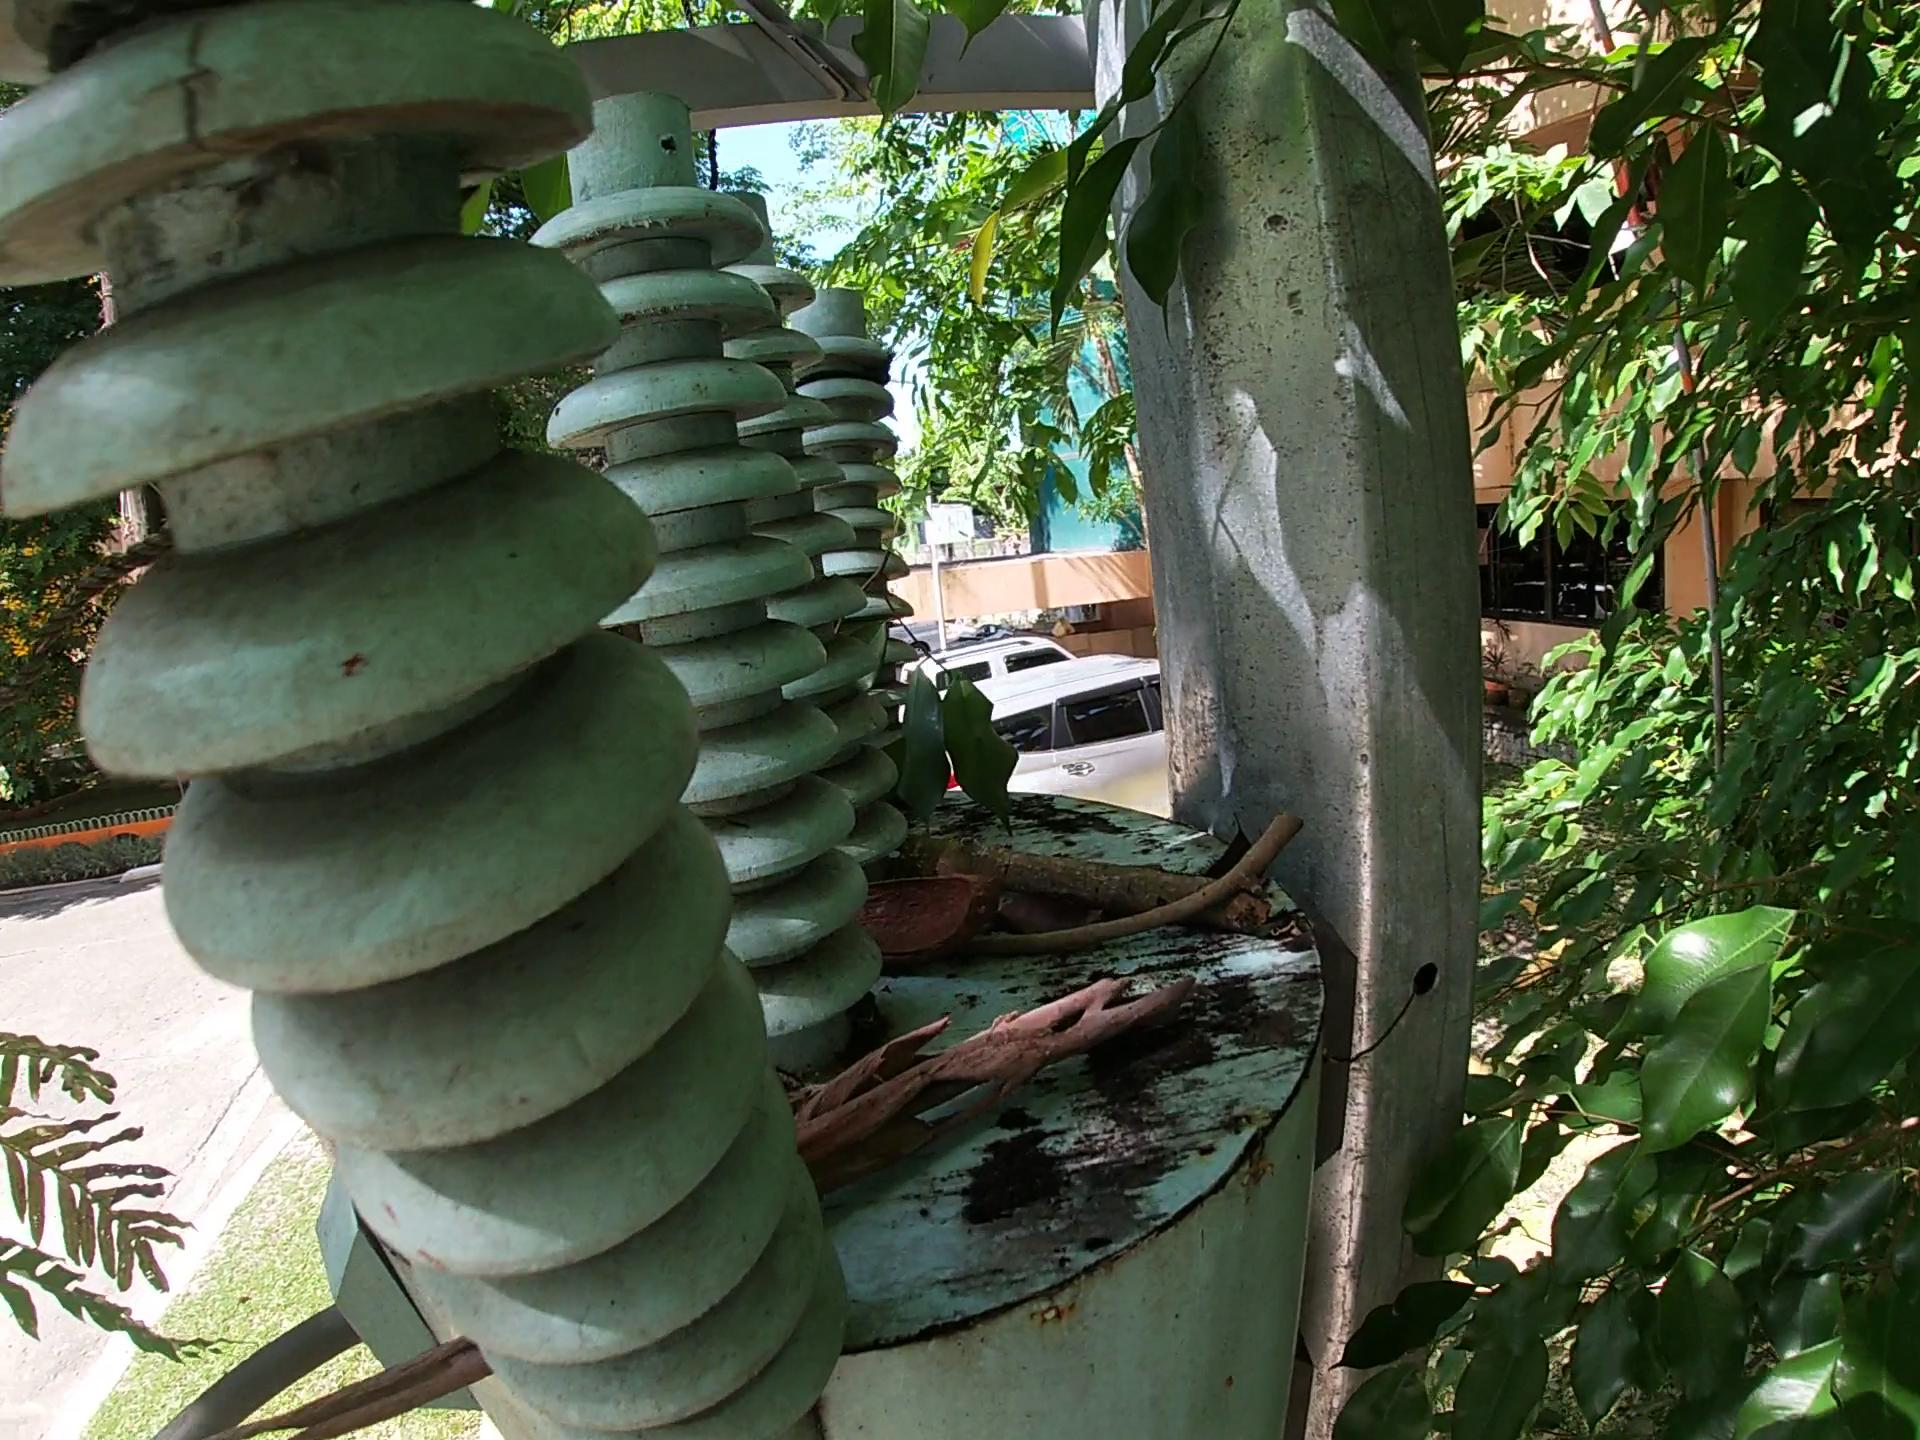branch with leaves: (831, 501, 1043, 805)
mahogany fruit: (847, 861, 993, 971)
tree branch: (763, 977, 1232, 1199), (968, 821, 1324, 964), (916, 817, 1279, 926), (172, 1330, 500, 1440)
